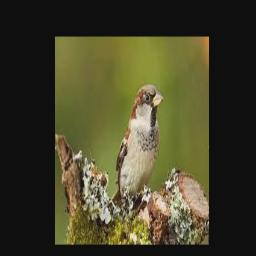Sparrow: (111, 85, 164, 208)
